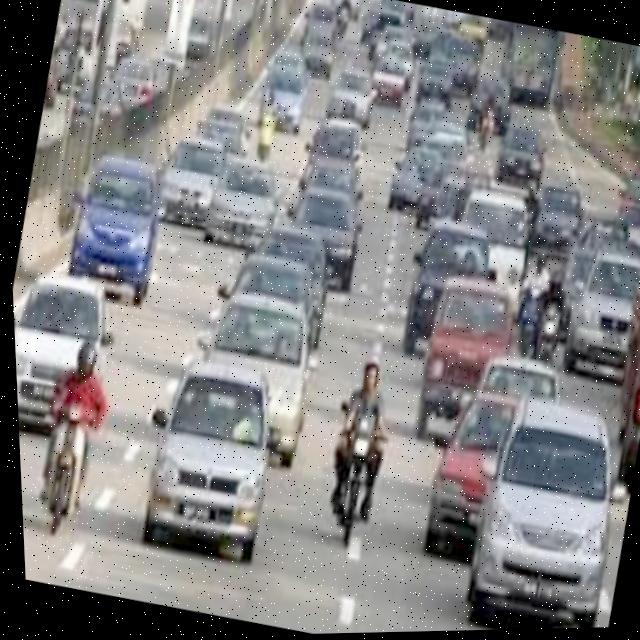car: (448, 382, 640, 630), (122, 347, 297, 561), (182, 282, 332, 464), (415, 379, 537, 563), (403, 274, 540, 431), (56, 149, 180, 307), (389, 208, 509, 367), (12, 265, 120, 439), (211, 239, 346, 366), (270, 177, 377, 283), (557, 243, 640, 372), (194, 142, 283, 247), (149, 129, 229, 225)
motorcycle: (299, 400, 411, 557), (17, 391, 111, 538)
